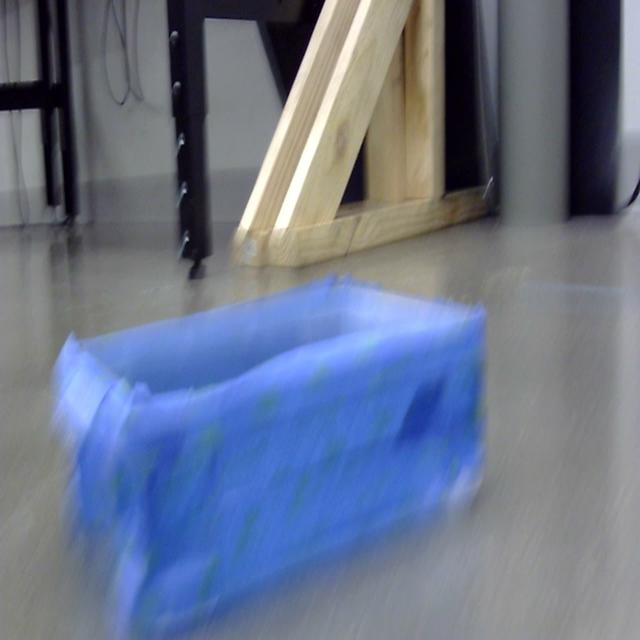bucket: (50, 277, 488, 640)
